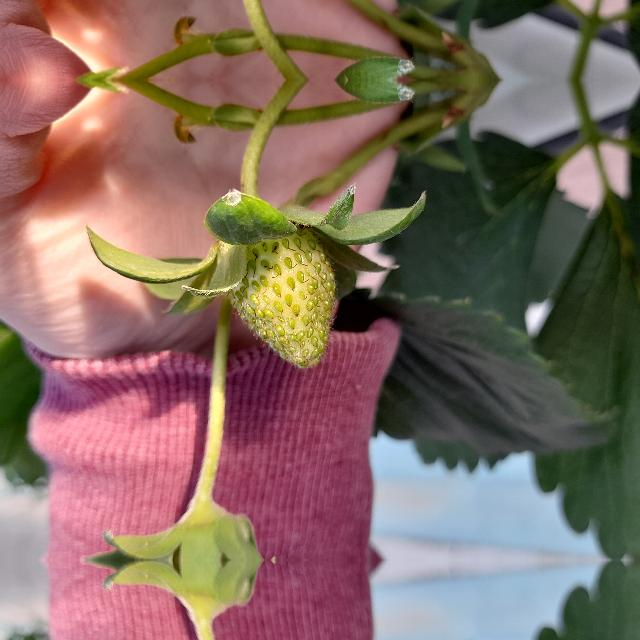Health_25: (225, 224, 338, 370)
